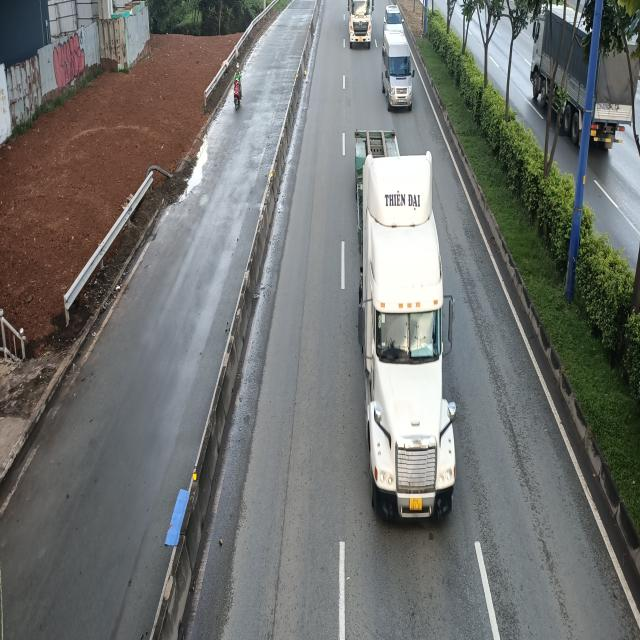container: (353, 127, 455, 517)
truck: (347, 0, 374, 48)
van: (382, 29, 417, 113)
